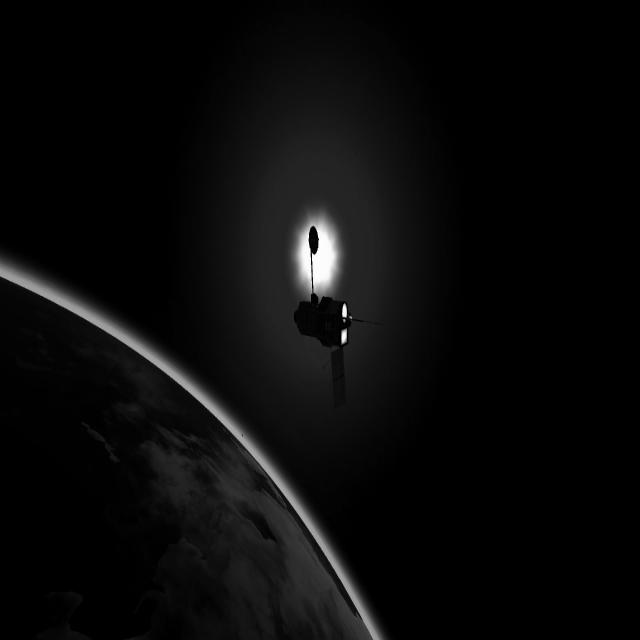medium_debris: (275, 221, 380, 442)
